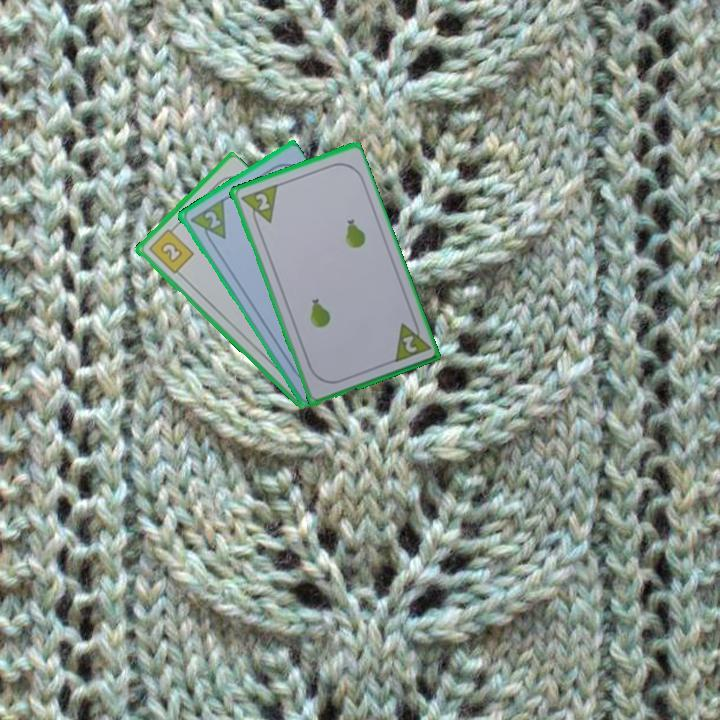2b: (145, 222, 196, 277)
2p: (186, 196, 229, 249), (236, 180, 280, 230), (389, 315, 432, 365)
